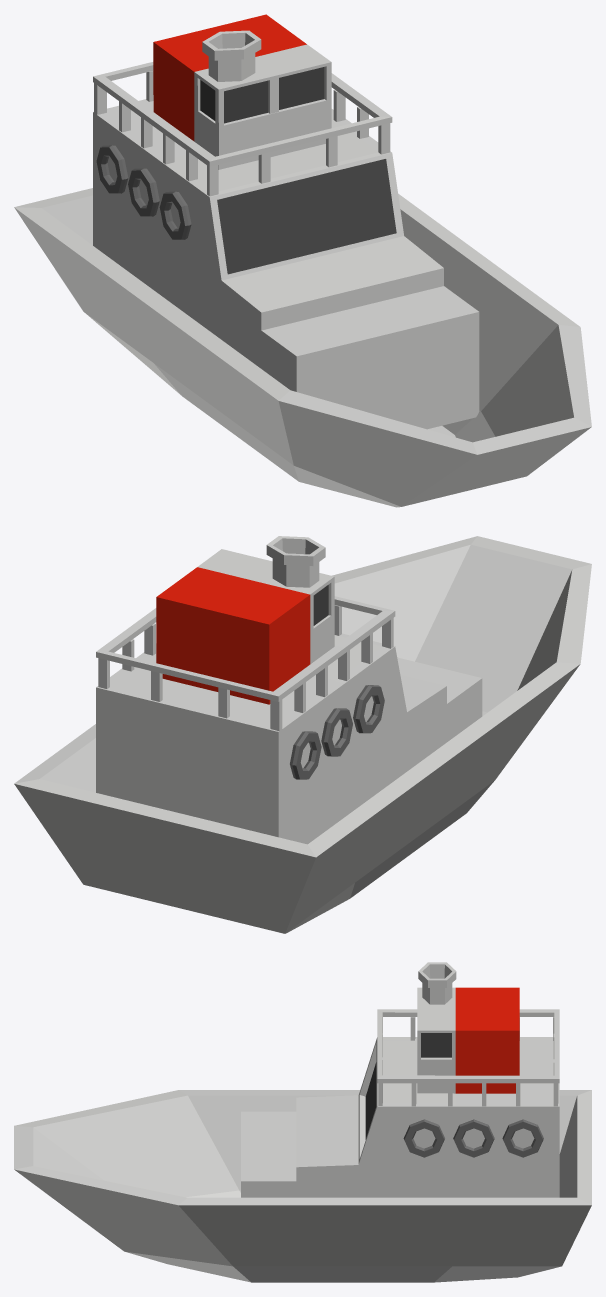
The model's file is Boat.fbx.
3 views of the same model, one above another, from view 1: azimuth 30°, elevation 25°; view 2: azimuth 150°, elevation 25°; view 3: azimuth 270°, elevation 25° (orthographic). The views are drawn at different scales.
Parts seen in each view (by area): view 1: Cube.007, Plane.001, Cube.008, Cube.009, Cylinder.025, Cylinder.026, Cylinder.024; view 2: Plane.001, Cube.007, Cube.009, Cylinder.024, Cylinder.026, Cylinder.025; view 3: Plane.001, Cube.007, Cube.009, Cube.008, Cylinder.028, Cylinder.029, Cylinder.027.
Part boxes in pixels (x1,y1,x2,y2): Cube.007: (93, 30, 479, 429); Plane.001: (14, 188, 591, 507); Cube.008: (200, 67, 396, 274); Cube.009: (153, 14, 306, 141); Cylinder.025: (128, 168, 159, 216); Cylinder.026: (159, 191, 191, 239); Cylinder.024: (96, 145, 128, 193); Plane.001: (14, 536, 591, 933); Cube.007: (96, 536, 482, 844); Cube.009: (156, 567, 310, 704); Cylinder.024: (290, 731, 321, 779); Cylinder.026: (353, 685, 384, 733); Cylinder.025: (321, 708, 352, 756); Plane.001: (14, 1090, 591, 1282); Cube.007: (241, 962, 559, 1197); Cube.009: (455, 987, 519, 1093); Cube.008: (365, 1033, 451, 1139); Cylinder.028: (453, 1119, 494, 1157); Cylinder.029: (403, 1119, 444, 1157); Cylinder.027: (502, 1119, 543, 1157).
Bounding box in the file's own units: 443 × 478 × 939.
